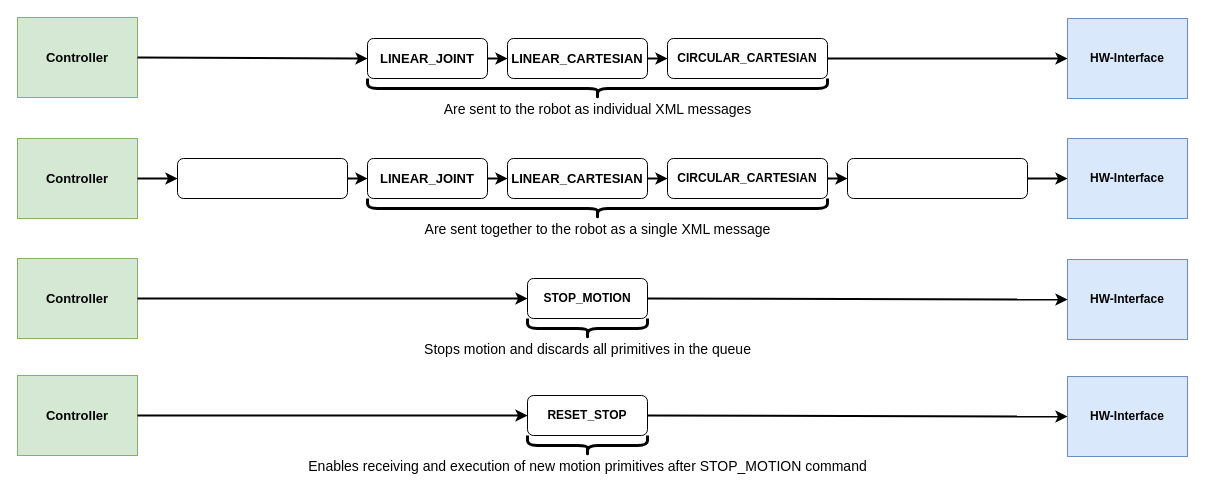
Image size: 1205x499. Some labels were removed from this diagram. The centre of each missing label's shape, as x and y in pixels:
"MOTION_SEQUENCE_END" belongs at (x=262, y=178).
"MOTION_SEQUENCE_START" belongs at (x=937, y=178).
